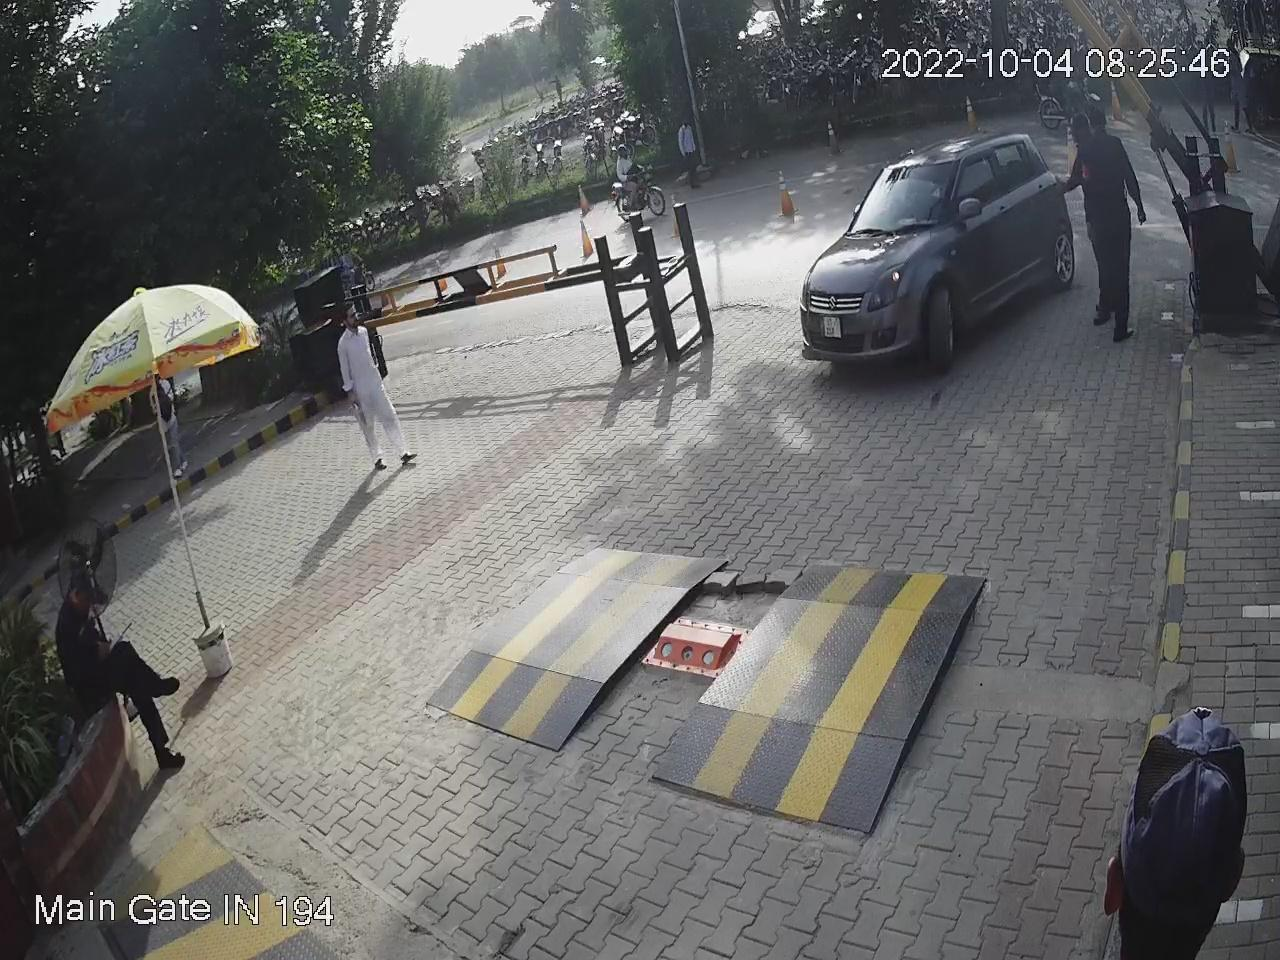windshield: (848, 145, 961, 245)
